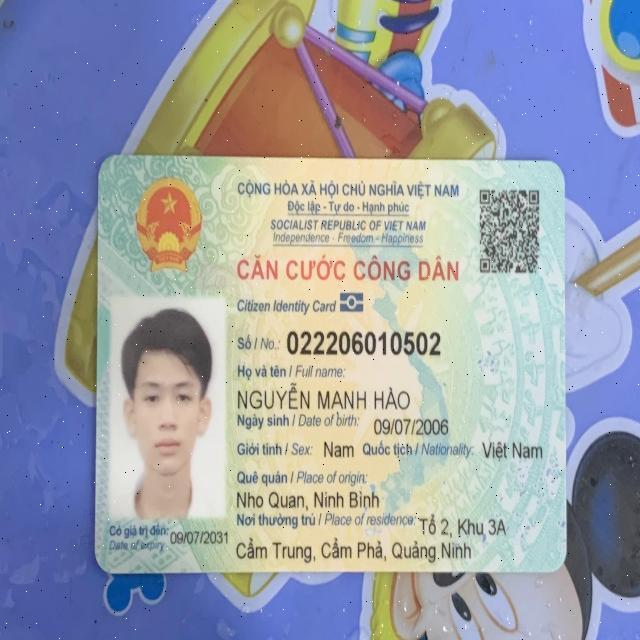current_place: (235, 533, 475, 565), (419, 512, 508, 539)
dob: (369, 413, 456, 439)
expire_date: (169, 528, 230, 547)
gender: (325, 435, 355, 459)
id: (280, 325, 446, 360)
name: (234, 384, 417, 413)
nationality: (480, 438, 551, 464)
origin_place: (235, 487, 380, 512)
